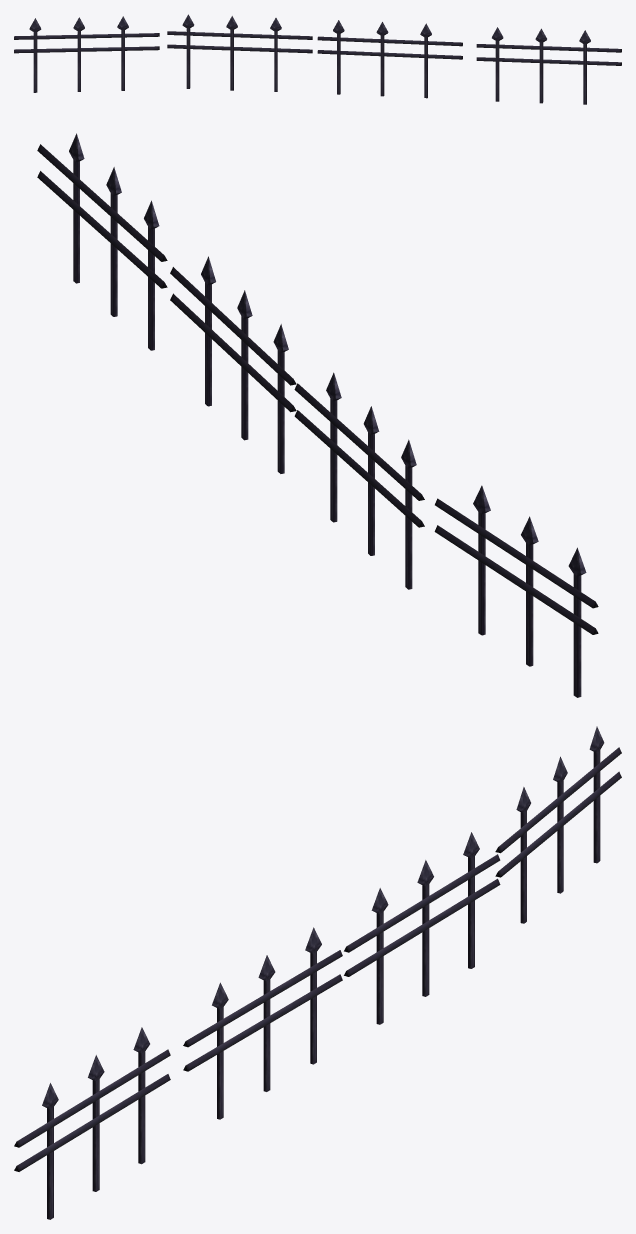
File: Area12_23.fbx
3 renders of one model, top to bottom at view 1: azimuth 30°, elevation 25°; view 2: azimuth 150°, elevation 25°; view 3: azimuth 270°, elevation 25°, orthographic. The views are drawn at different scales.
Visible parts, largest first — view 1: Area12_23; view 2: Area12_23; view 3: Area12_23.
Boxes of the visible parts, x1=… form: Area12_23: x1=14, y1=14, x2=621, y2=104; Area12_23: x1=37, y1=133, x2=598, y2=697; Area12_23: x1=14, y1=726, x2=621, y2=1219.
Bounding box in the file's own units: 2699 × 432 × 1752.
